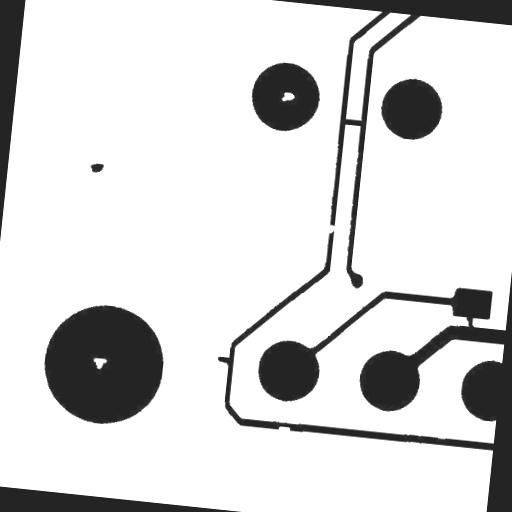copper: (84, 156, 110, 180)
mousebite: (272, 420, 296, 438)
open: (322, 218, 341, 238)
pin-hole: (86, 350, 113, 376), (275, 86, 301, 108)
short: (336, 113, 369, 132), (458, 310, 480, 336)
spur: (210, 350, 238, 372)
